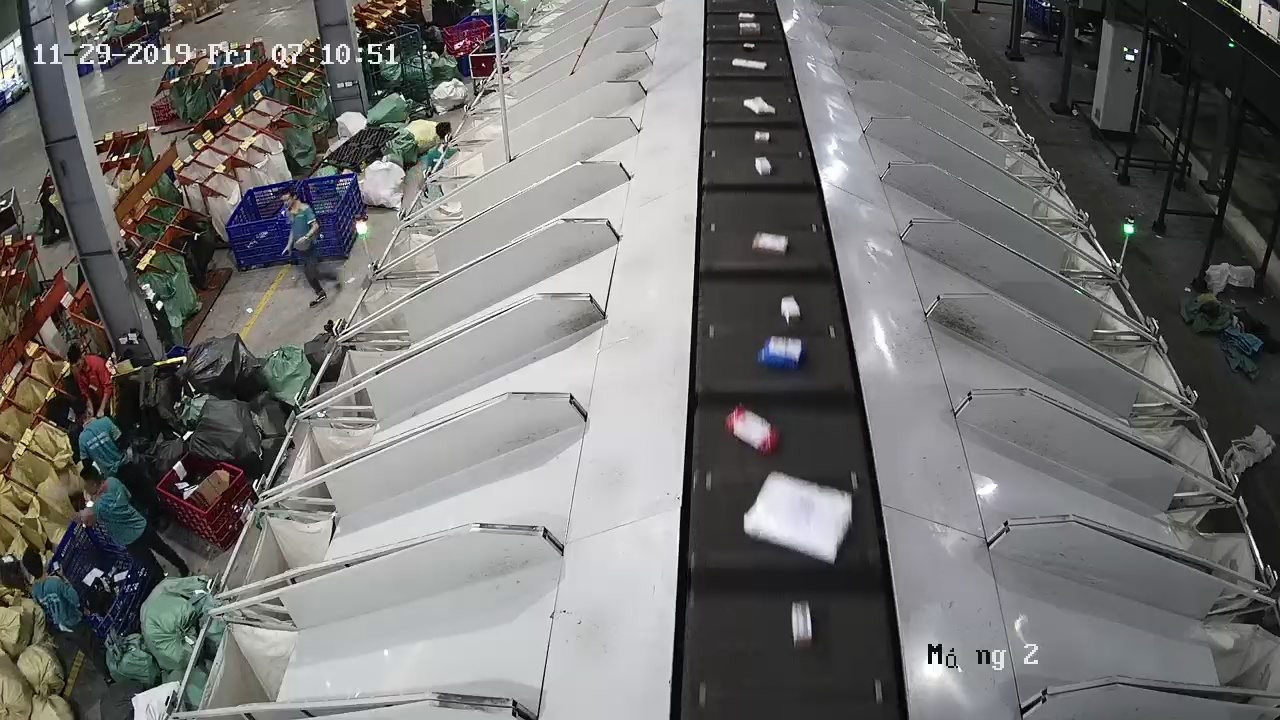parcel: (743, 471, 853, 565), (725, 404, 780, 457), (758, 334, 806, 372), (790, 599, 813, 650), (752, 232, 788, 258), (780, 295, 801, 321), (754, 156, 772, 176), (754, 130, 771, 145)
